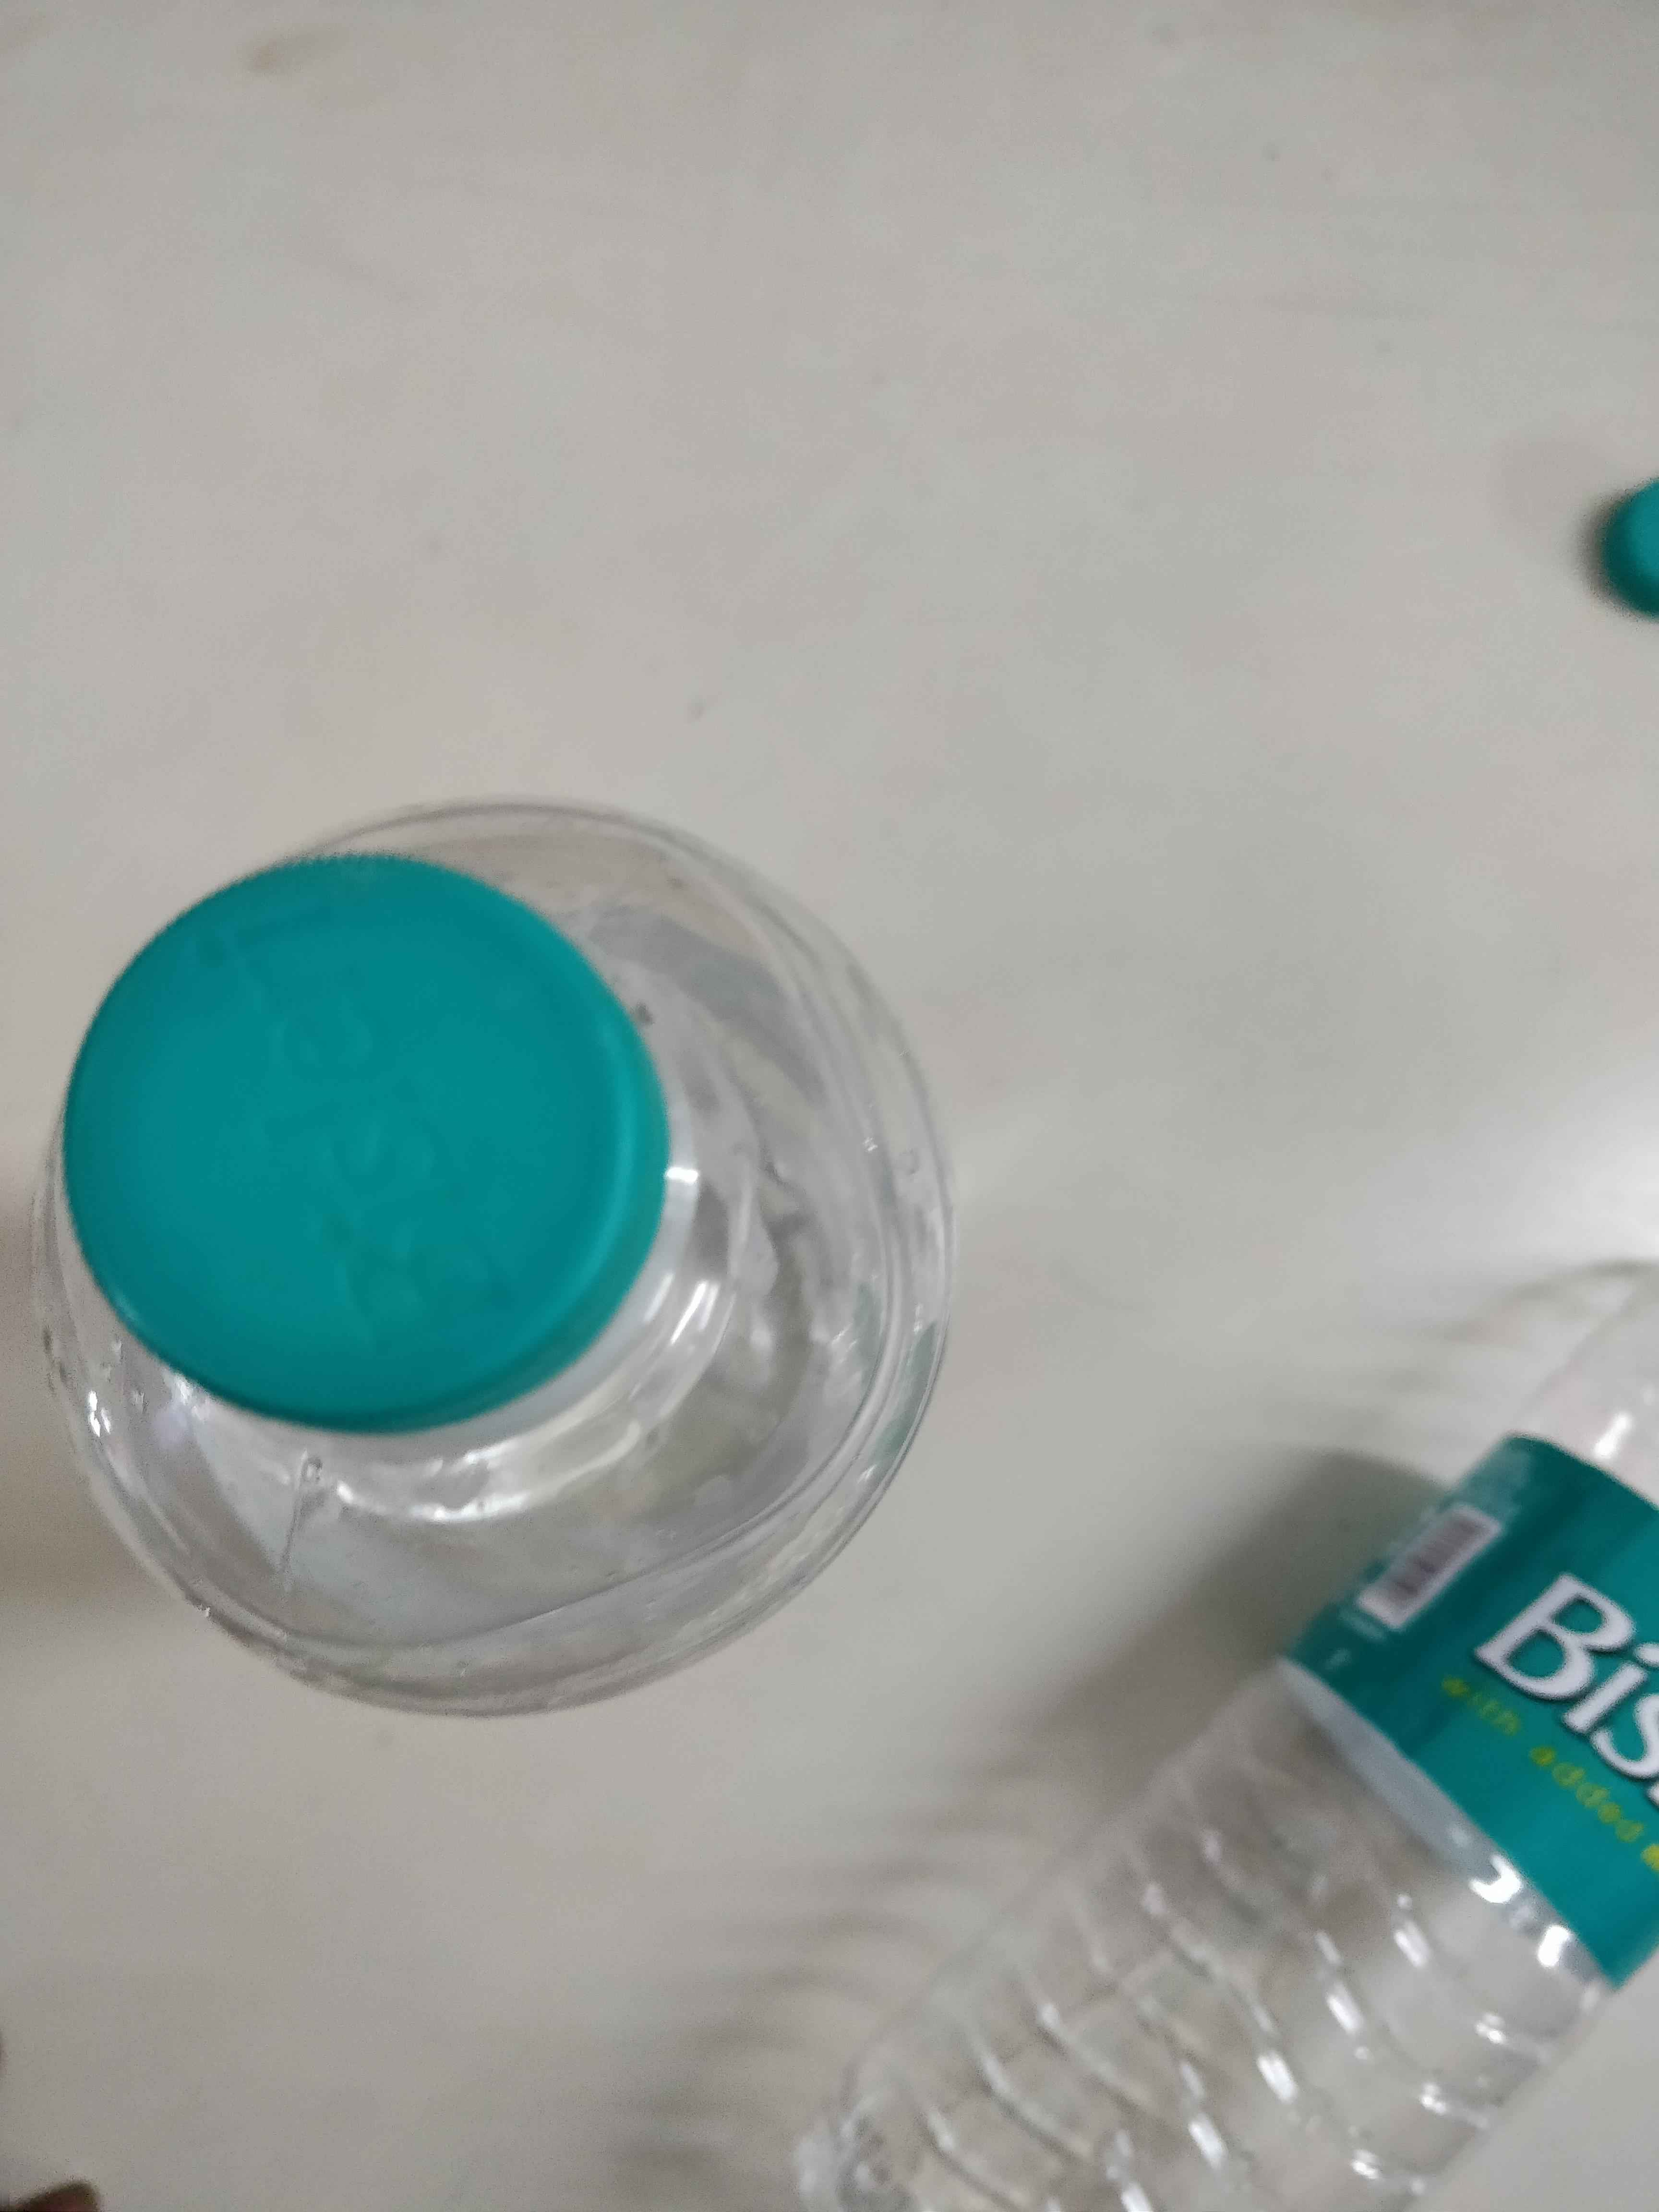Bisleri: (1425, 1430, 1645, 1933)
